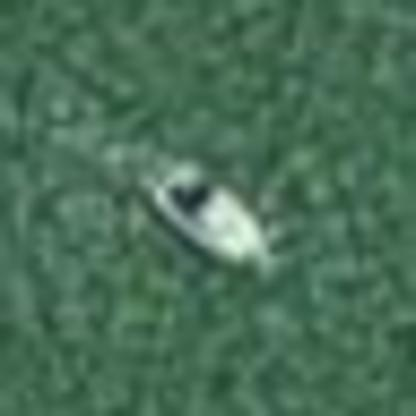ship: (134, 146, 284, 284)
